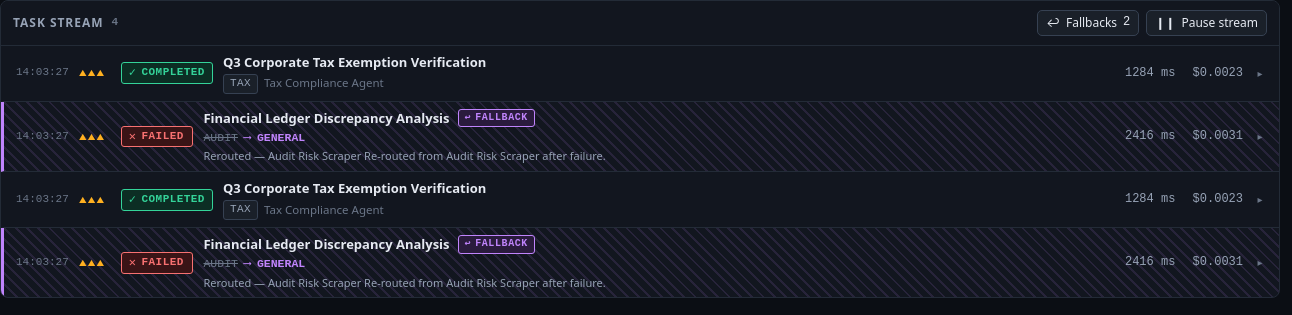
Test: StreamPanel - the fallback filter › filters to fallback tasks only when pressed
Click the button "↩ Fallbacks 2": (1088, 23) [1037,10,1139,36]
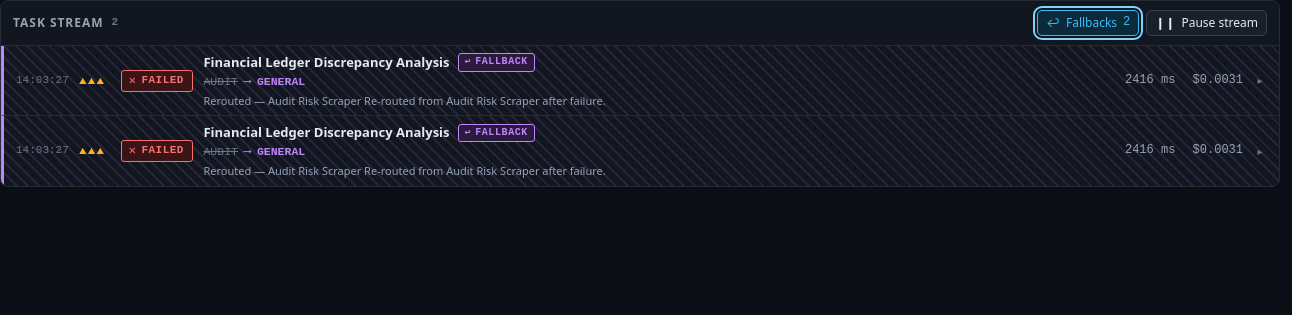
expect the number of list items is 2: met, box [1,46,1279,116]; [1,116,1279,186]
